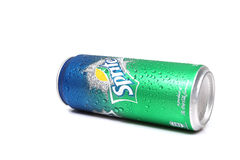can: (54, 50, 217, 138)
